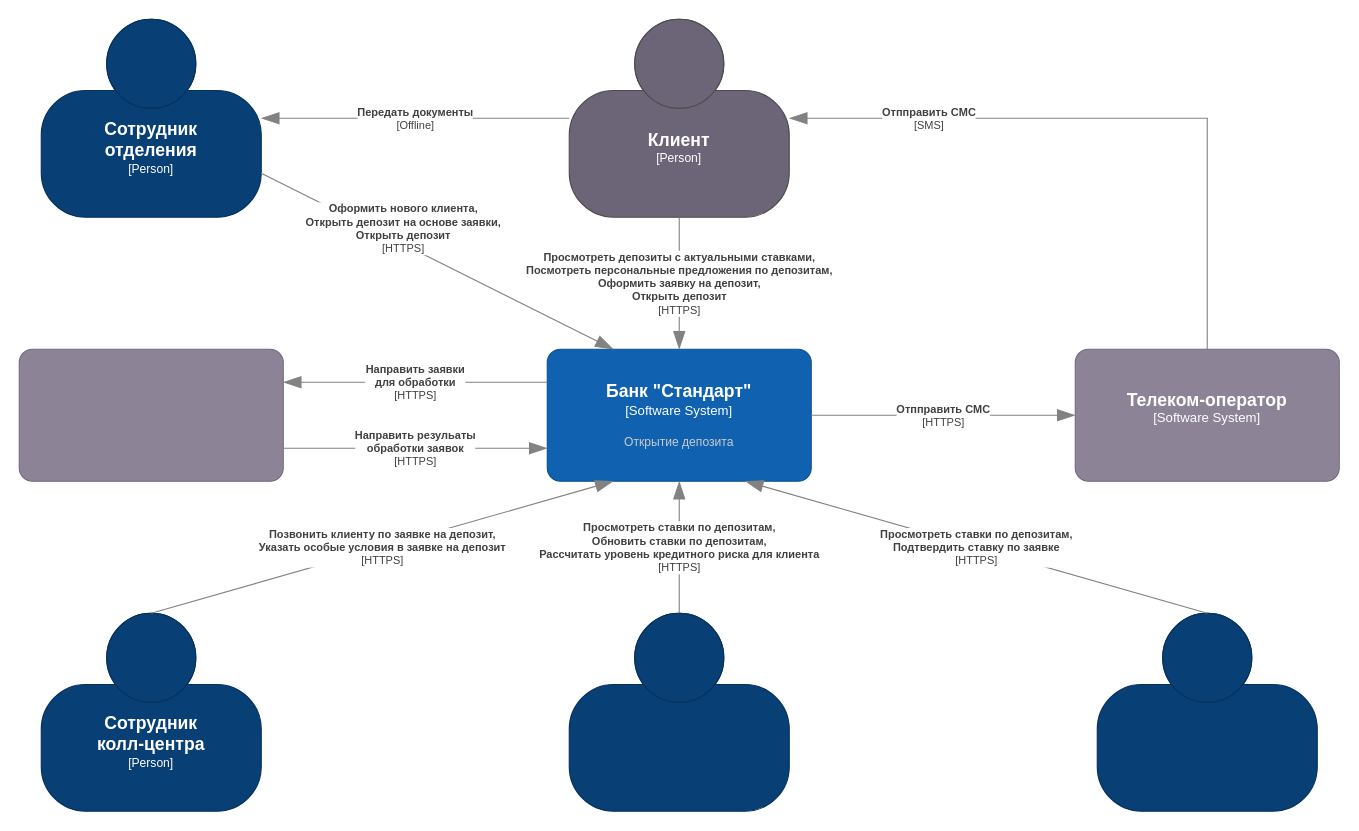
Some shapes in this 1359 by 831 pixel diagram are drawn without their labels. The shapes that lost their labels are listed below. From the top down, each one's centre as x and y in pixels, then its label:
the point at 150,414: Партнёрский колл-центр [Software System]
the point at 678,711: Сотрудник отдела кредитов [Person]
the point at 1206,711: Сотрудник отдела депозитов [Person]
